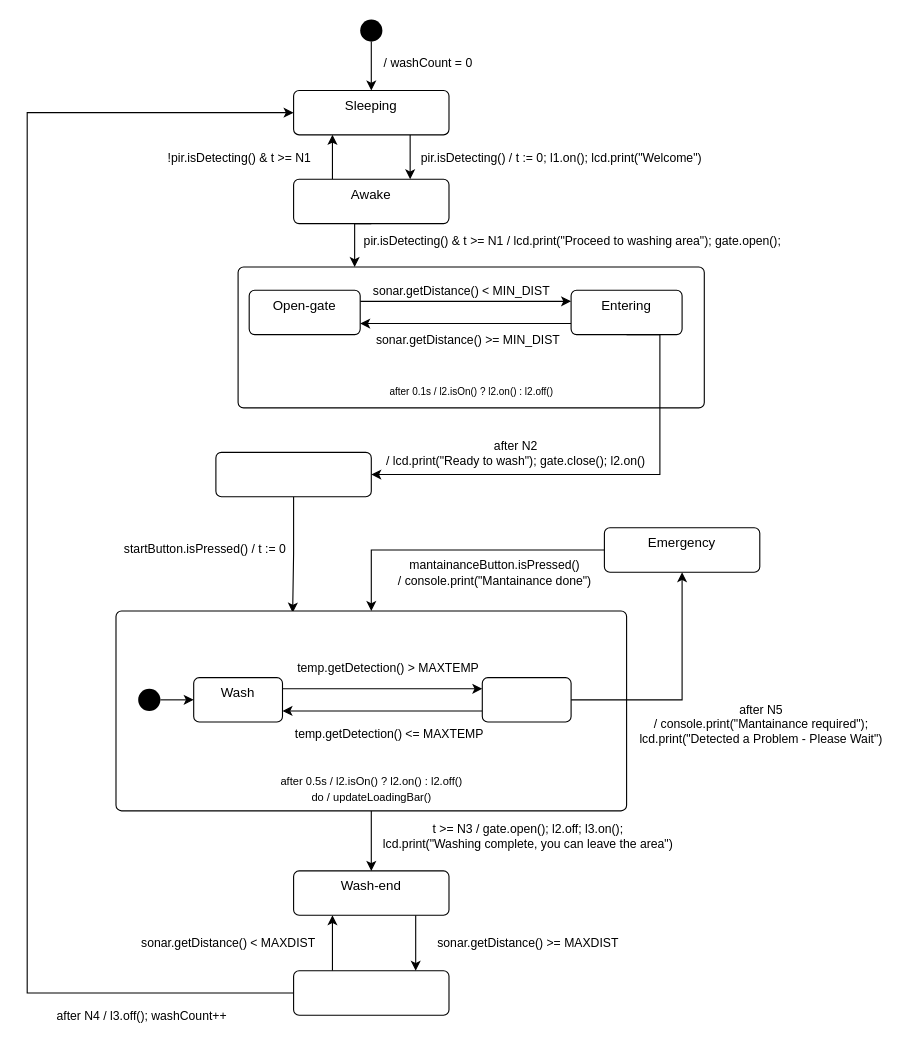
This 901x1042 diagram has some shape labels left out. The centre of each missing label's shape, as x and y in pixels:
"Check-out" goes at point 370,992.
"Overheat" goes at point 526,699.
"Ready" goes at point 293,474.
